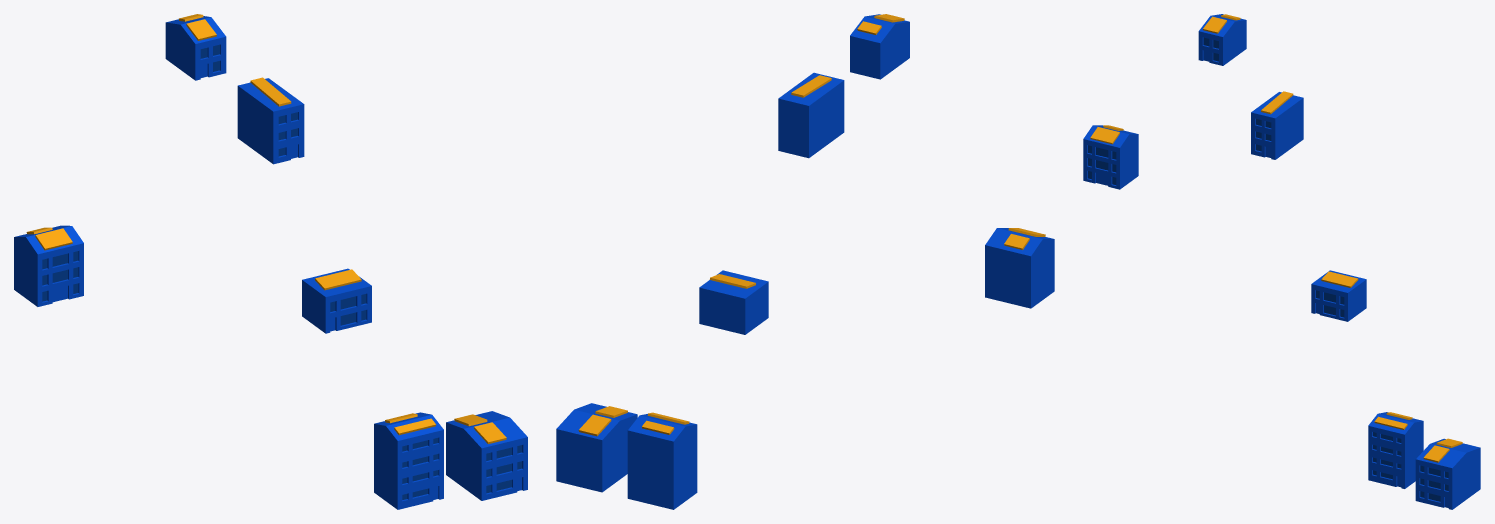
Rendered from BinaGrup5.gltf.
3 views of the same model, side by side, from view 1: azimuth 30°, elevation 25°; view 2: azimuth 150°, elevation 25°; view 3: azimuth 330°, elevation 25° (orthographic). The views are drawn at different scales.
Parts seen in each view (by area): view 1: Building_061.003, Building_068.003, Building_043.003, Building_023.003, Building_052.003, Building_035.003, Building_023.005, Building_061.005, Building_068.005, Building_052_RoofCap_0.001; view 2: Building_061.003, Building_068.003, Building_023.003, Building_043.003, Building_052.003, Building_035.003; view 3: Building_068.003, Building_061.003, Building_043.003, Building_023.003, Building_052.003, Building_035.003.
Boxes of the visible parts, left/top/right/bottom form: Building_061.003: left=374, top=412, right=443, bottom=509; Building_068.003: left=446, top=411, right=527, bottom=500; Building_043.003: left=237, top=78, right=304, bottom=164; Building_023.003: left=14, top=225, right=83, bottom=306; Building_052.003: left=302, top=268, right=371, bottom=333; Building_035.003: left=165, top=16, right=226, bottom=80; Building_023.005: left=42, top=251, right=78, bottom=301; Building_061.005: left=402, top=438, right=438, bottom=499; Building_068.005: left=486, top=445, right=521, bottom=493; Building_052_RoofCap_0.001: left=315, top=269, right=361, bottom=290; Building_061.003: left=627, top=414, right=697, bottom=509; Building_068.003: left=556, top=403, right=637, bottom=492; Building_023.003: left=985, top=228, right=1054, bottom=308; Building_043.003: left=778, top=72, right=844, bottom=158; Building_052.003: left=699, top=270, right=768, bottom=334; Building_035.003: left=850, top=14, right=909, bottom=79; Building_068.003: left=1415, top=438, right=1480, bottom=509; Building_061.003: left=1368, top=412, right=1423, bottom=488; Building_043.003: left=1251, top=92, right=1303, bottom=159; Building_023.003: left=1083, top=125, right=1138, bottom=189; Building_052.003: left=1311, top=270, right=1366, bottom=321; Building_035.003: left=1198, top=14, right=1246, bottom=65.
Size of the model in its own units: 0.5054 by 0.5362 by 0.0652.
